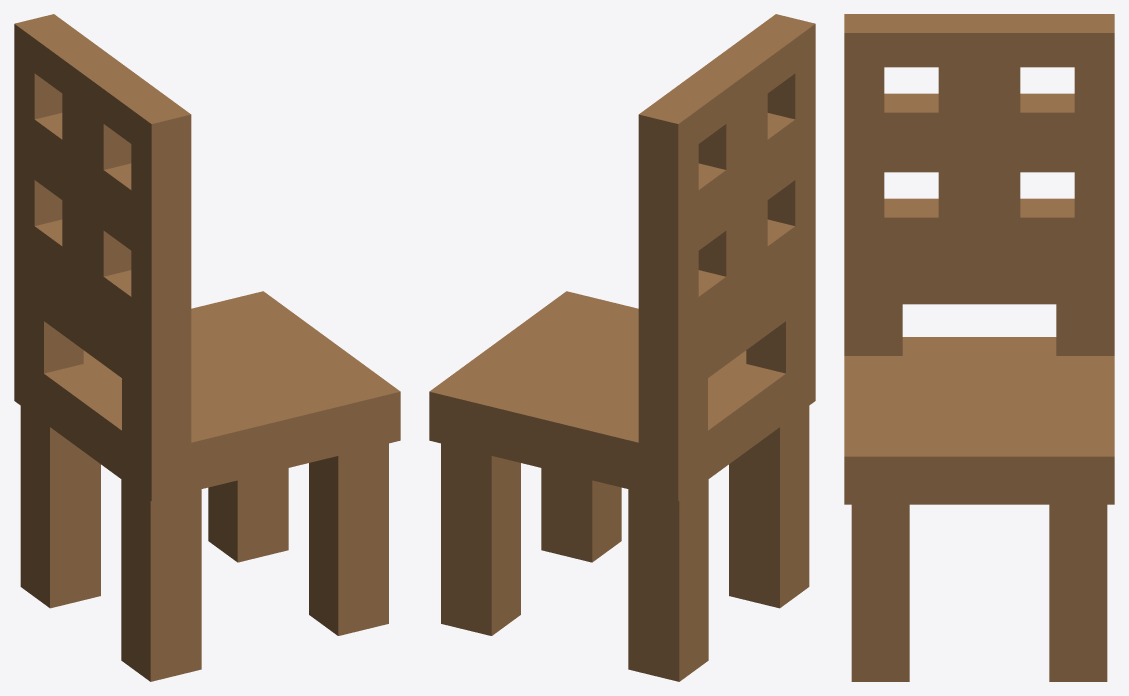
The model's file is Environment_Chair1.fbx.
3 renders of one model, left to right at view 1: azimuth 30°, elevation 25°; view 2: azimuth 150°, elevation 25°; view 3: azimuth 270°, elevation 25°, orthographic.
Visible parts, largest first — view 1: Environment_Chair1; view 2: Environment_Chair1; view 3: Environment_Chair1.
Boxes of the visible parts, x1,y1,x2,y2 form: Environment_Chair1: (14, 14, 400, 681); Environment_Chair1: (429, 14, 815, 681); Environment_Chair1: (844, 14, 1114, 681).
Size of the model in its own units: 83.74 by 180 by 79.93.
